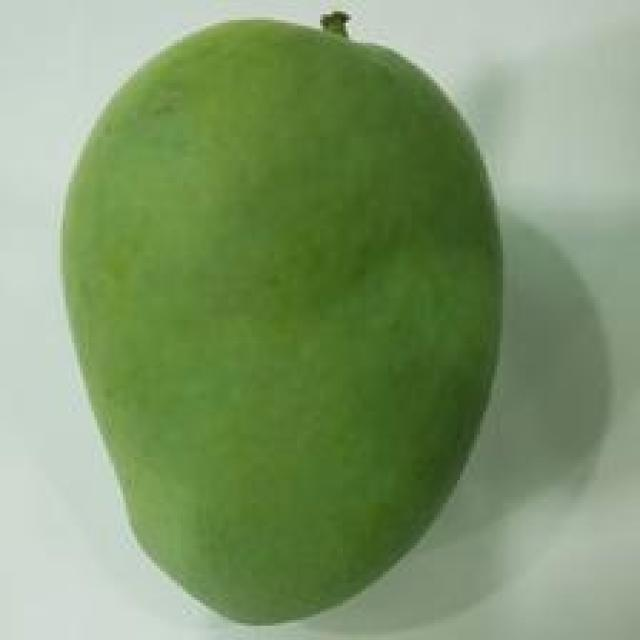Good_Mango: (57, 14, 506, 629)
